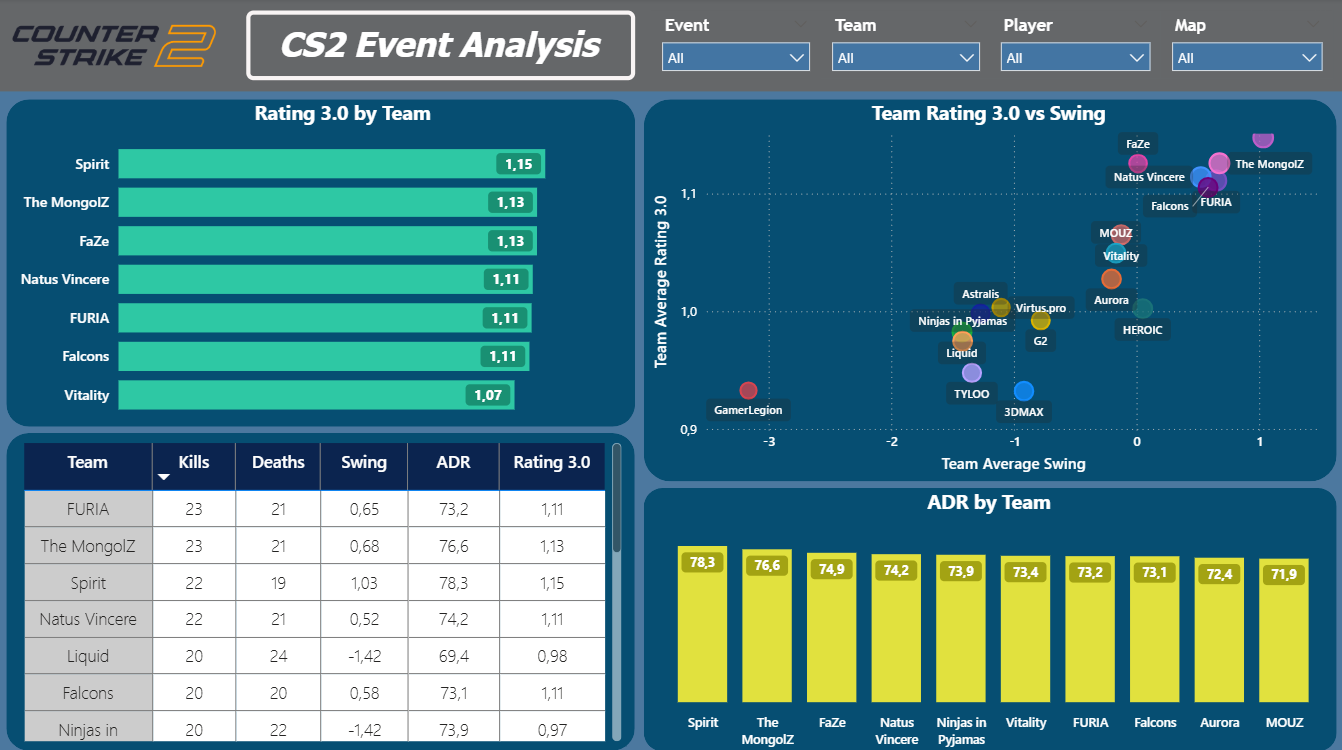

What the dashboard file says about the page in this screenshot:
{"tool":"powerbi","page":{"name":"Team Insights","canvas":[1280,720],"ordinal":2},"visuals":[{"type":"shape","box":[0,0,1280,89],"z":0},{"type":"shape","box":[613.1,466.2,660,250.8],"z":1000},{"type":"shape","box":[6,97,599,312],"z":2000},{"type":"shape","box":[613,97,660,364],"z":3000},{"type":"shape","box":[6.2,413.8,598.8,302.5],"z":4000},{"type":"tableEx","fields":{"Values":["Players_data.Team","Players_data.Player Avg Kills","Players_data.Player Avg Deaths","Players_data.Player Avg Rating 3.0","Players_data.Player Avg ADR","Players_data.Player Avg Rating 3.01"]},"box":[16.2,418.8,580,293.8],"z":5000},{"type":"scatterChart","title":"Team Rating 3.0 vs Swing","fields":{"X":["Players_data.Player Avg Swing"],"Y":["Players_data.Player Avg Rating 3.0"],"Size":["Players_data.Player Avg Kills"],"Series":["Players_data.Team"]},"box":[623,97,638,356],"z":6000},{"type":"clusteredBarChart","title":"Rating 3.0 by Team","fields":{"Category":["Players_data.Team"],"Y":["Players_data.Player Avg Rating 3.0"]},"box":[18,97,617,311],"z":7000},{"type":"clusteredColumnChart","title":"ADR by Team","fields":{"Category":["Players_data.Team"],"Y":["Players_data.Player Avg ADR"]},"box":[612.5,466.2,660,250],"z":8000},{"type":"slicer","fields":{"Values":["Players_data.Team"]},"box":[781.8,12.2,161.3,64.7],"z":9000},{"type":"slicer","fields":{"Values":["Players_data.Player"]},"box":[943.1,12.2,162.5,64.7],"z":10000},{"type":"slicer","fields":{"Values":["Players_data.Map"]},"box":[1105.6,12.2,163.7,64.7],"z":11000},{"type":"textbox","box":[235,11.7,370,66.7],"z":12000},{"type":"slicer","fields":{"Values":["Matches_data.Event"]},"box":[620.6,12.2,161.3,74.5],"z":13000},{"type":"image","box":[6.7,6.7,203.3,76.7],"z":14000}]}

Visuals, with their boxes in screenshot pixels (x1, y1, x2, y2), scaled from the page's 1280x720 canvas onto the 1342x750 screenshot:
shape: [0,0,1341,93]
shape: [643,486,1335,747]
shape: [6,101,634,426]
shape: [643,101,1335,480]
shape: [7,431,634,746]
tableEx - Players_data.Team x Players_data.Player Avg Kills: [17,436,625,742]
"Team Rating 3.0 vs Swing" scatterChart: [653,101,1322,472]
"Rating 3.0 by Team" clusteredBarChart: [19,101,666,425]
"ADR by Team" clusteredColumnChart: [642,486,1334,746]
slicer - Players_data.Team: [820,13,989,80]
slicer - Players_data.Player: [989,13,1159,80]
slicer - Players_data.Map: [1159,13,1331,80]
textbox: [246,12,634,82]
slicer - Matches_data.Event: [651,13,820,90]
image: [7,7,220,87]
